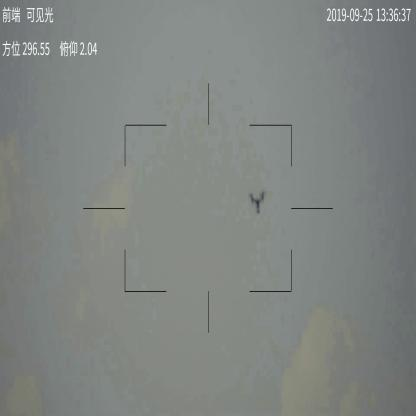uav: (247, 188, 268, 218)
